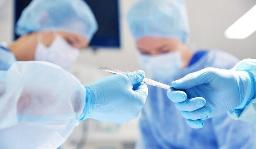scalpel: (98, 66, 186, 92)
